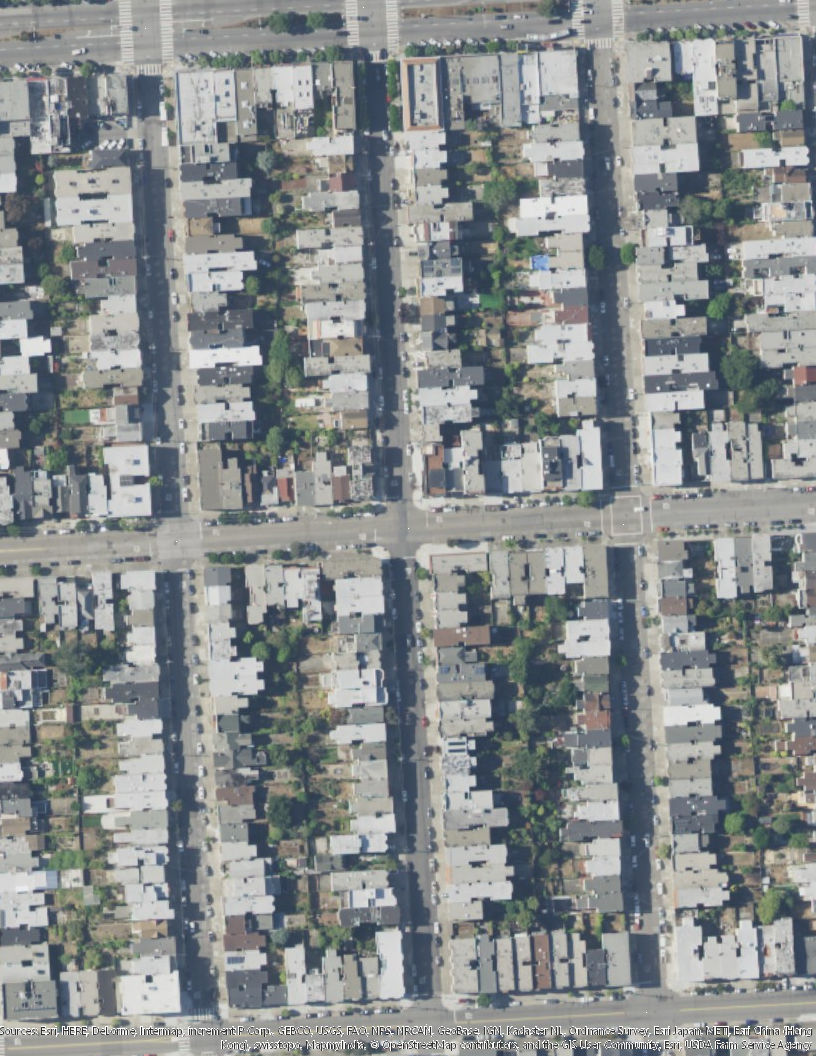zebracross: (157, 1, 176, 65), (117, 1, 135, 64), (383, 1, 400, 54), (344, 1, 360, 47), (568, 1, 585, 38), (611, 1, 625, 37), (190, 1008, 217, 1021), (136, 64, 165, 76), (588, 38, 615, 50), (179, 1027, 191, 1053)
